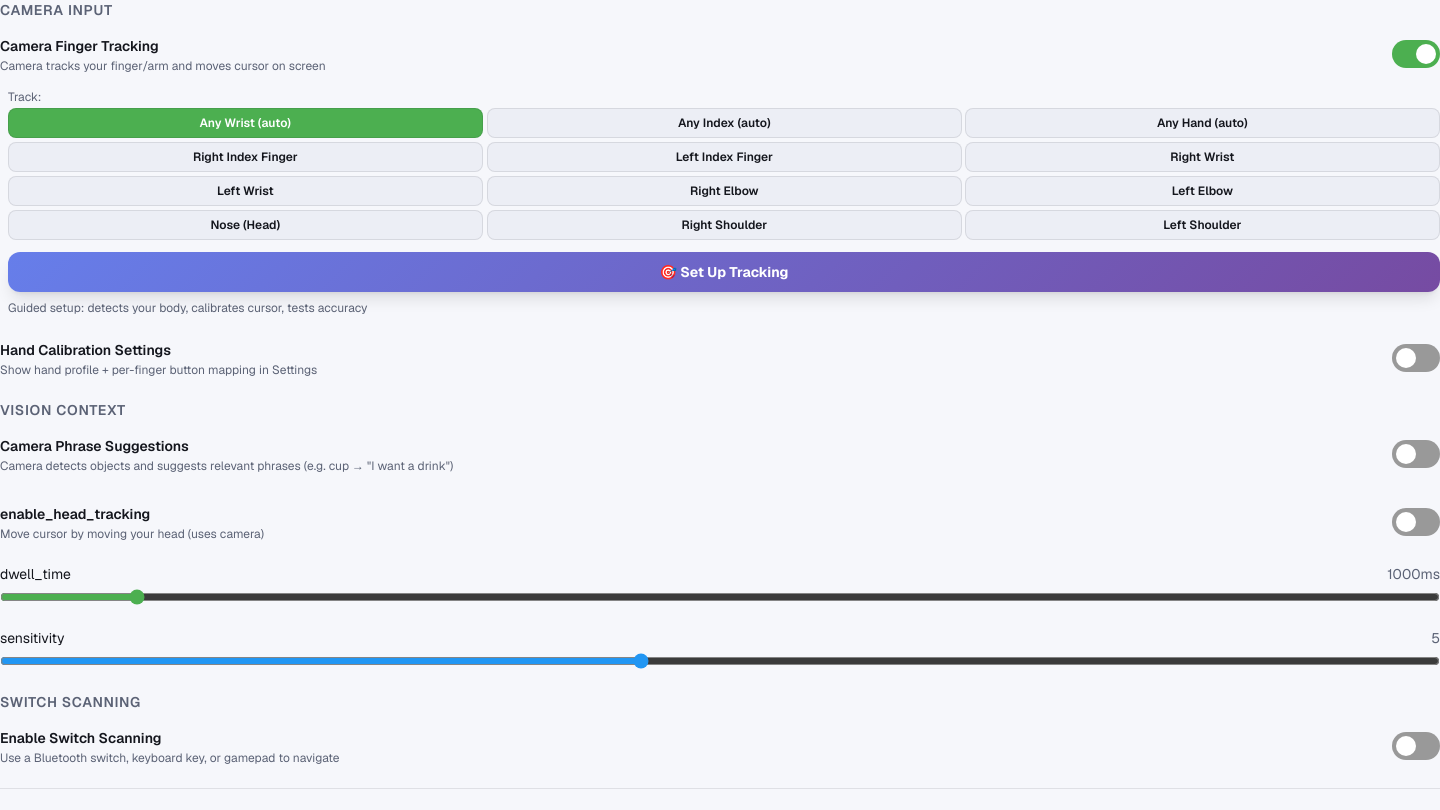
Test case: InputModesSettings — setup wizard › clicking Set Up Tracking opens wizard
Click the button "🎯 Set Up Tracking": (724, 272) x1=8 y1=252 x2=1439 y2=292
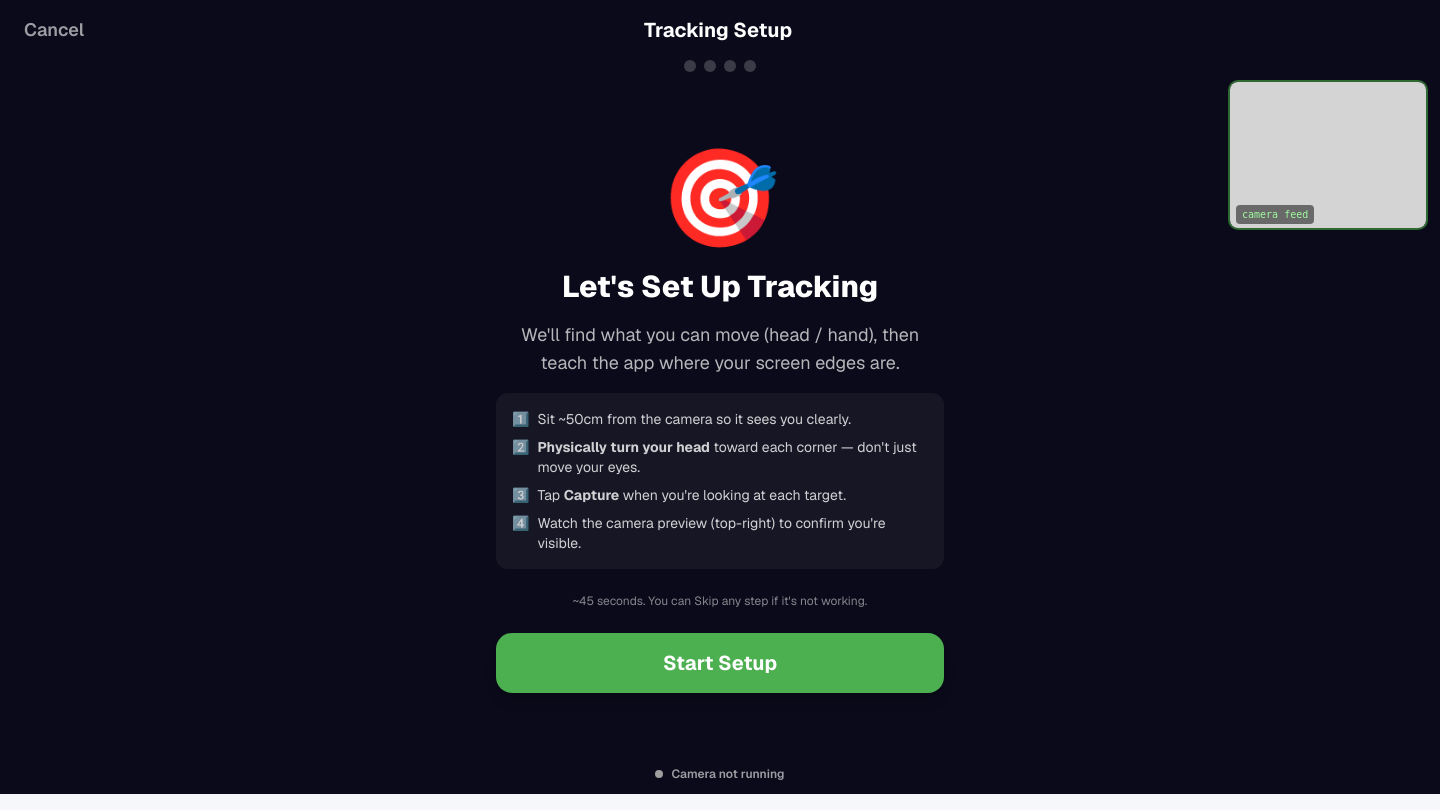
Now the element with test id "tracking-setup-wizard" is shown
